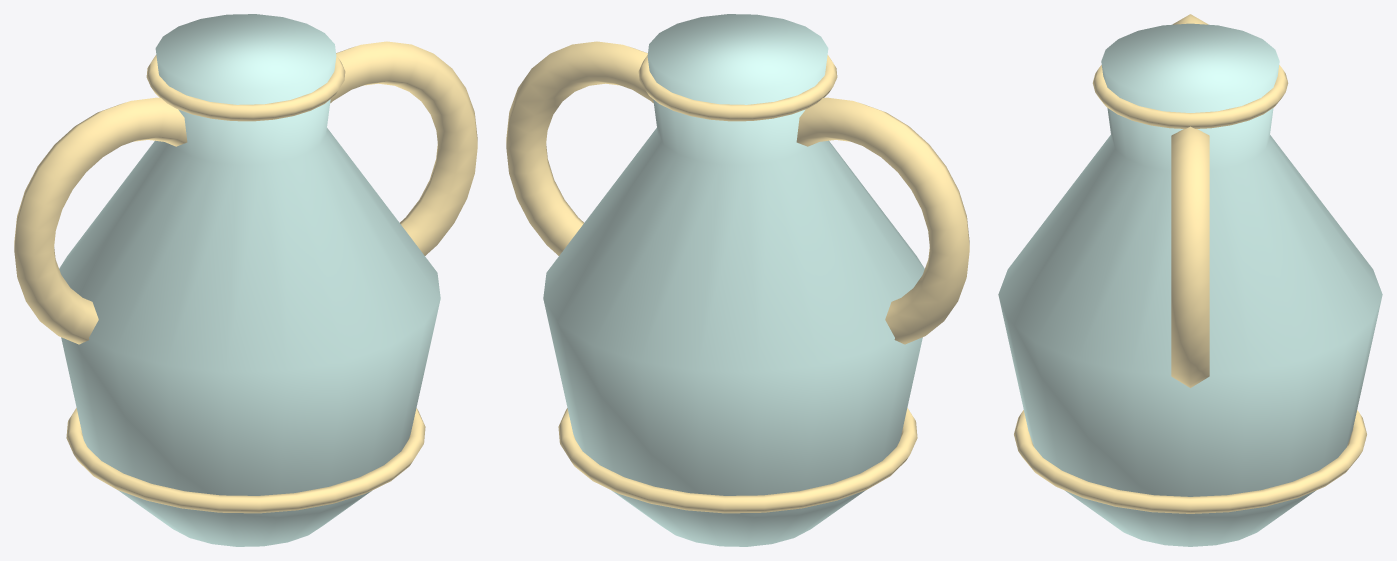
Rendered from atlantis_detail_amphora.glb.
3 renders of one model, left to right at view 1: azimuth 30°, elevation 25°; view 2: azimuth 150°, elevation 25°; view 3: azimuth 270°, elevation 25°, orthographic.
Parts seen in each view (by area): view 1: atlantis_detail_amphora_surface; view 2: atlantis_detail_amphora_surface; view 3: atlantis_detail_amphora_surface.
Boxes of the visible parts, box(x1,y1,x2,y2) form: atlantis_detail_amphora_surface: box(14, 14, 477, 546); atlantis_detail_amphora_surface: box(506, 14, 969, 546); atlantis_detail_amphora_surface: box(998, 14, 1382, 546).
Size of the model in its own units: 1.53 by 1.45 by 1.12.
